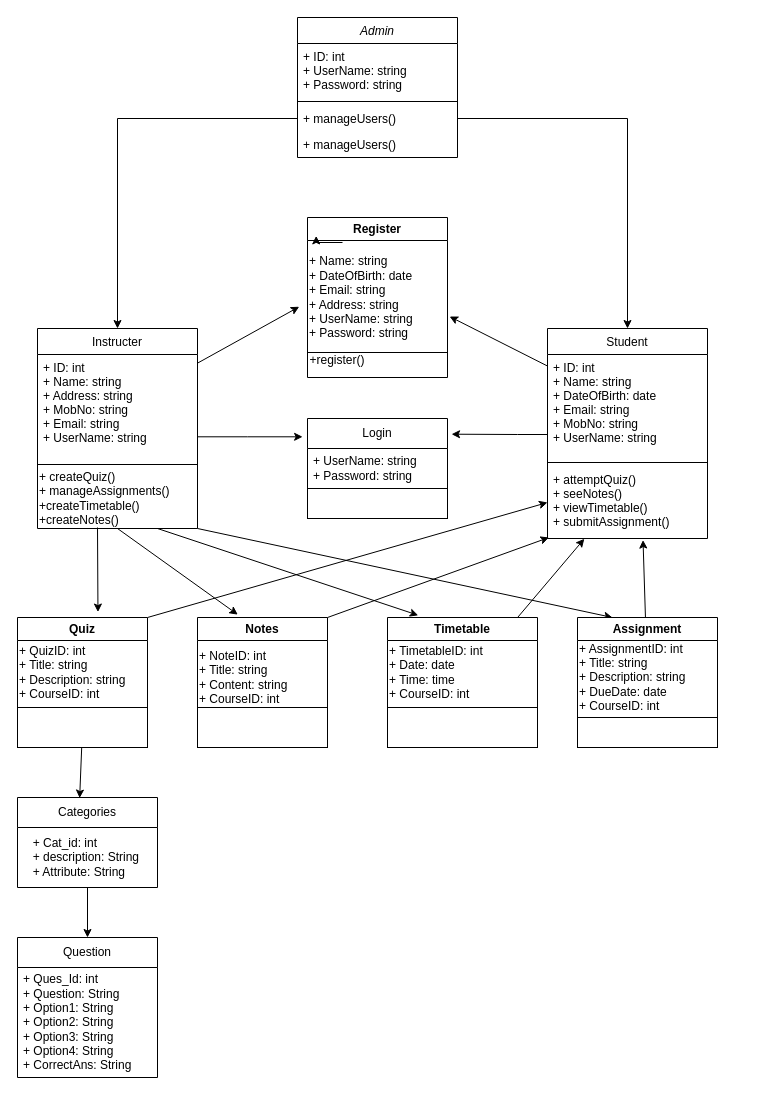
Image size: 775x1095. Some labels were removed from this diagram. The shapes that lost their labels are listed below. From the top down, each one's centre as x and y in pixels, then its label:
At point (377, 503): "+ login()".
At point (82, 727): "+ createQuiz() + attemptQuiz()".
At point (262, 727): "+ createNote() + viewNote()".
At point (462, 727): "+ createTimetable() + viewTimetable()".
At point (647, 732): "+ createAssignment() + submitAssignment()".
